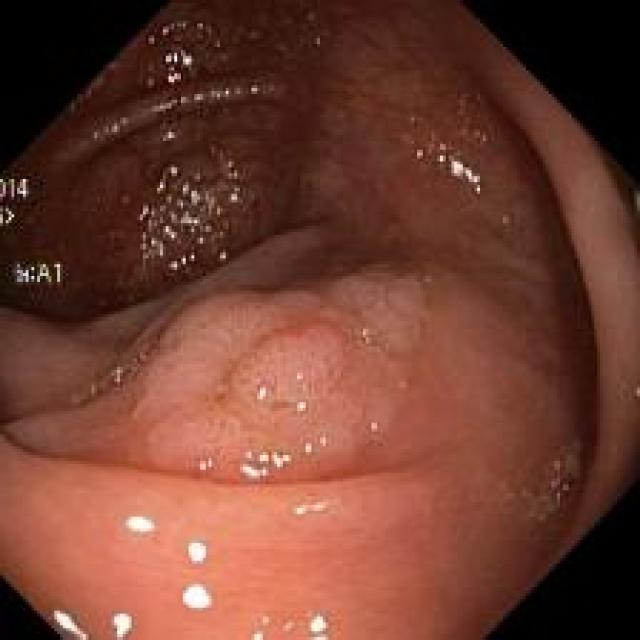Polyps: (132, 292, 408, 483)
